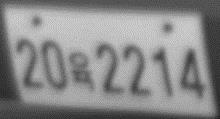0: (39, 39, 69, 90)
1: (150, 45, 178, 98)
2: (121, 43, 154, 96), (13, 37, 46, 89), (95, 44, 125, 95)
4: (179, 46, 208, 100)
육: (67, 51, 96, 91)
